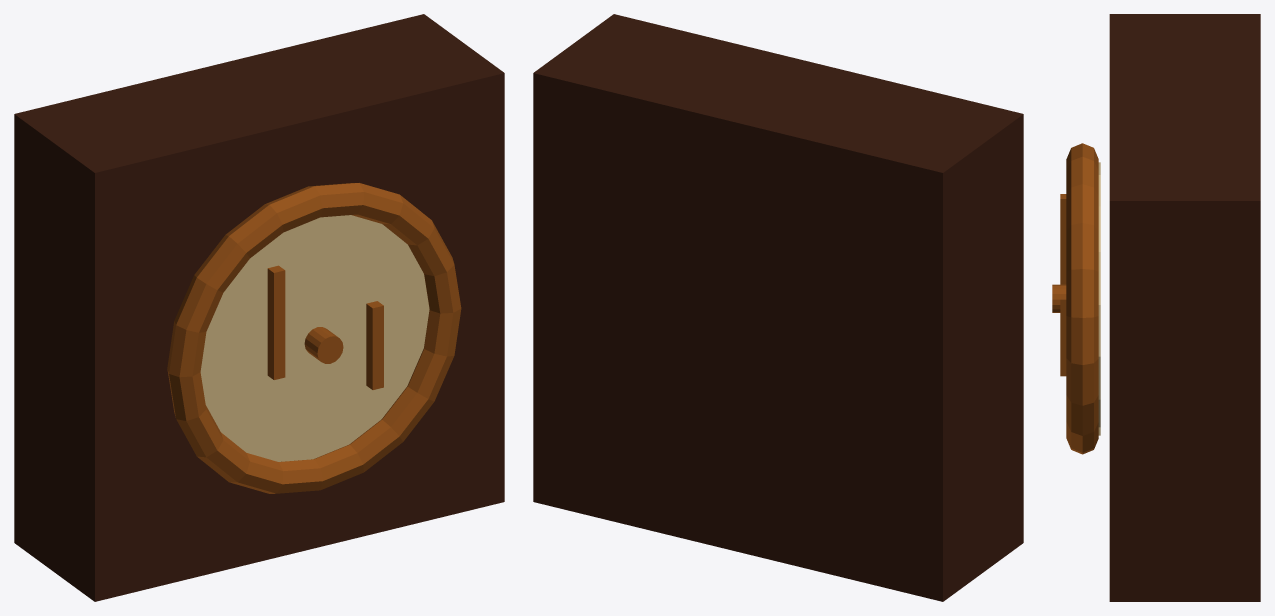
Rendered from clock.obj.
3 renders of one model, left to right at view 1: azimuth 30°, elevation 25°; view 2: azimuth 150°, elevation 25°; view 3: azimuth 270°, elevation 25°, orthographic. The views are drawn at different scales.
Parts seen in each view (by area): view 1: dark_wood, ivory, brass; view 2: dark_wood; view 3: dark_wood, brass, ivory.
Part boxes in pixels (x1,y1,x2,y2): dark_wood: (14, 14, 504, 601); ivory: (200, 215, 429, 461); brass: (167, 183, 461, 493); dark_wood: (533, 14, 1023, 601); dark_wood: (1109, 14, 1260, 601); brass: (1052, 143, 1098, 454); ivory: (1098, 162, 1100, 435).
Size of the model in its own units: 2.2 by 2.2 by 1.04.
